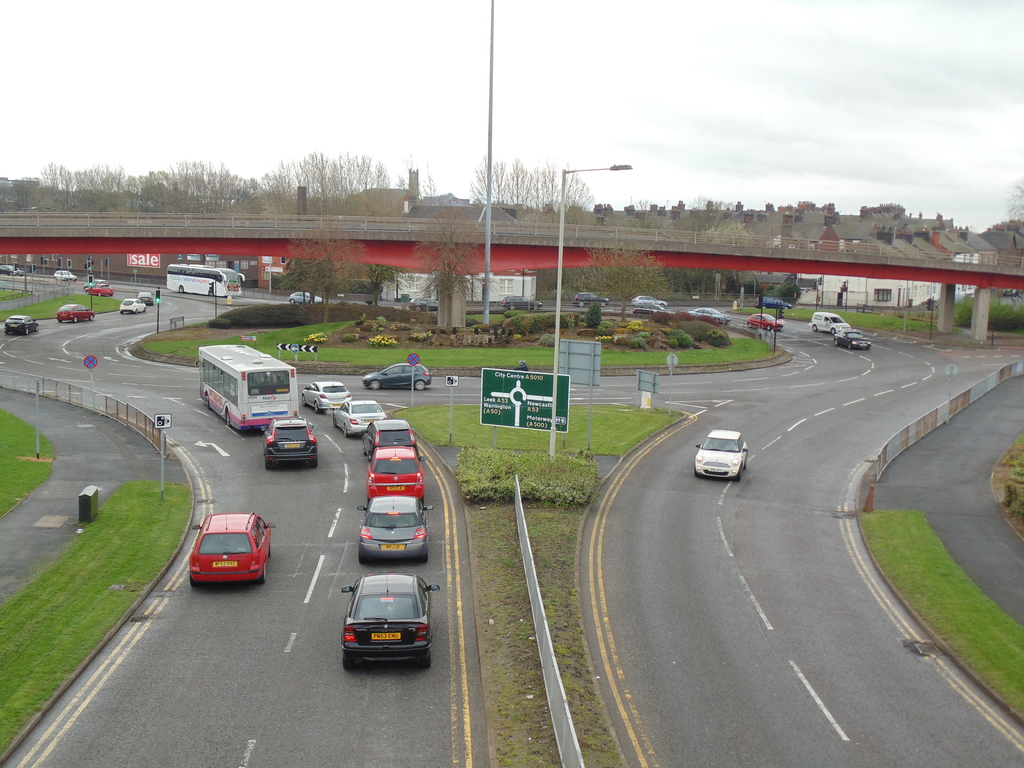Car: (305, 375, 442, 661), (188, 509, 273, 579), (700, 428, 756, 482), (263, 412, 323, 461), (371, 363, 434, 390), (818, 301, 853, 332), (833, 330, 869, 357), (10, 314, 46, 333), (63, 301, 90, 322), (750, 309, 781, 327), (693, 302, 727, 318), (290, 288, 325, 298), (508, 297, 547, 305), (53, 264, 69, 281), (642, 292, 657, 306), (87, 282, 106, 293), (128, 300, 146, 311), (577, 295, 601, 303), (0, 266, 22, 272), (144, 289, 150, 300)
